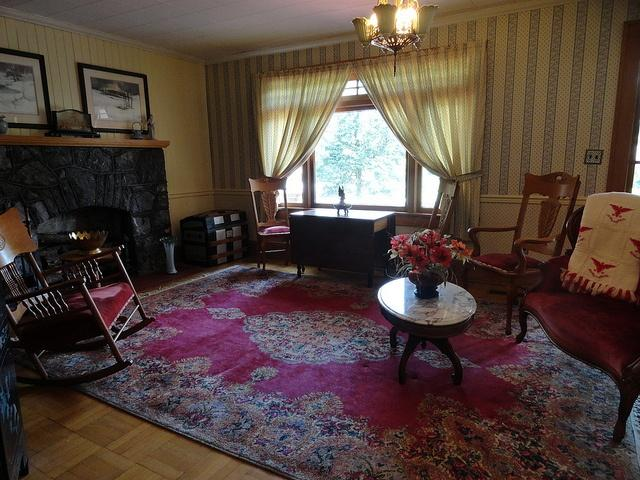Kursi: (460, 171, 581, 333), (248, 175, 293, 270)
